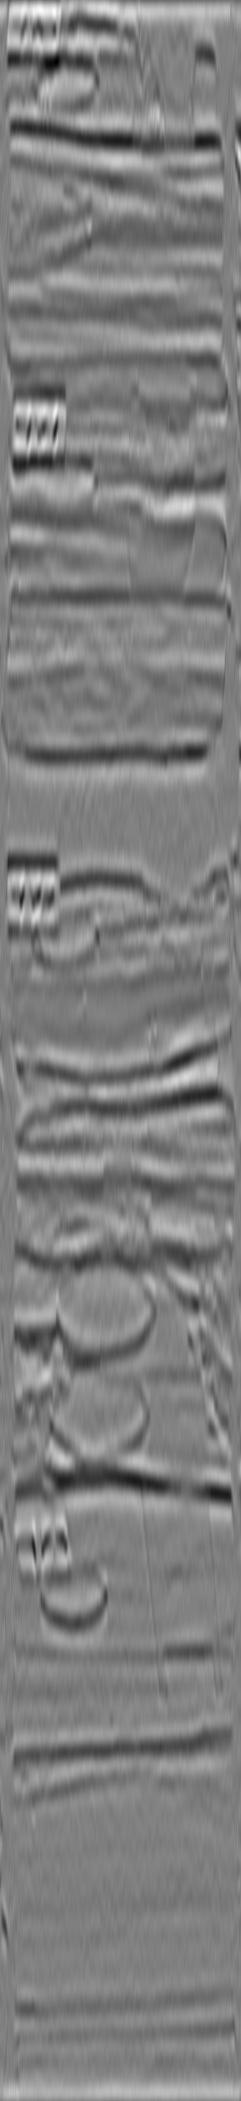hplug: (32, 1554, 119, 1633), (32, 900, 108, 977), (23, 54, 108, 117), (23, 458, 100, 525)
scal: (47, 1256, 163, 1360), (43, 1364, 151, 1462)
vplug: (138, 1482, 225, 1708), (138, 886, 224, 1091), (119, 389, 204, 595), (126, 1, 204, 151)
